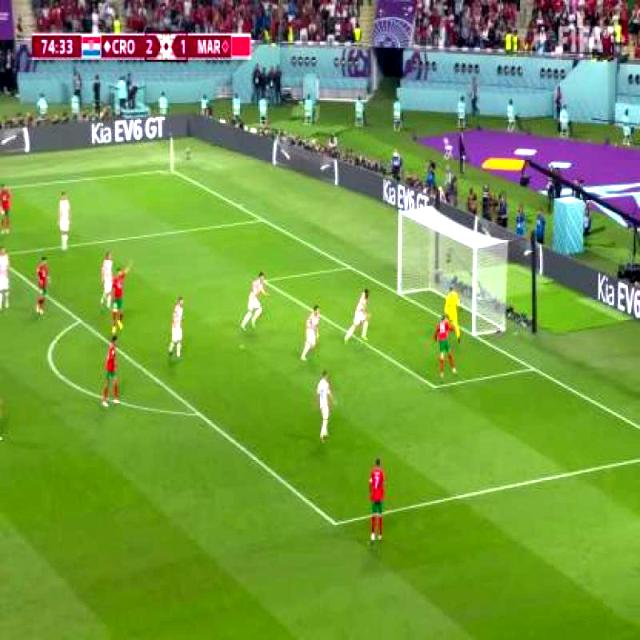bigarea_bottom_inner: (330, 512, 340, 534)
bigarea_top_outter: (255, 216, 270, 226)
bottom_arc_area_intersection: (194, 406, 203, 422)
corner: (163, 169, 177, 176)
smallarea_bottom_inner: (430, 378, 440, 397)
smallarea_bottom_outter: (526, 360, 539, 377)
smallarea_top_inner: (263, 277, 269, 286)
smallarea_top_outter: (344, 260, 354, 274)
top_arc_area_intersection: (75, 314, 85, 328)
